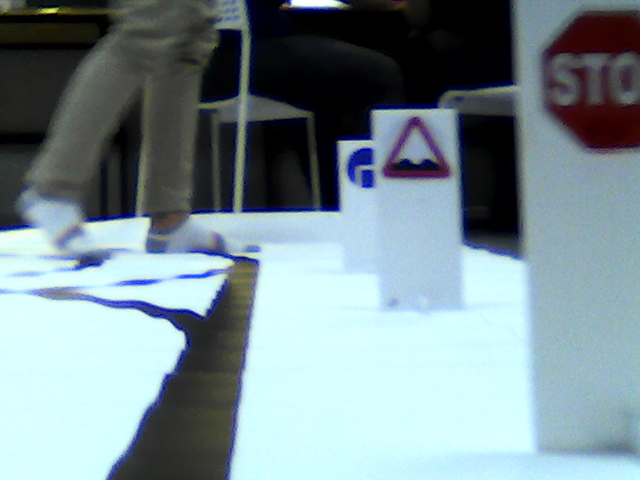Nerov: (381, 118, 448, 178)
Stop: (538, 6, 629, 167)
